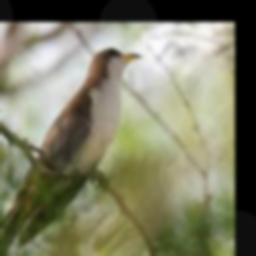Cuckoo: (0, 49, 142, 256)
